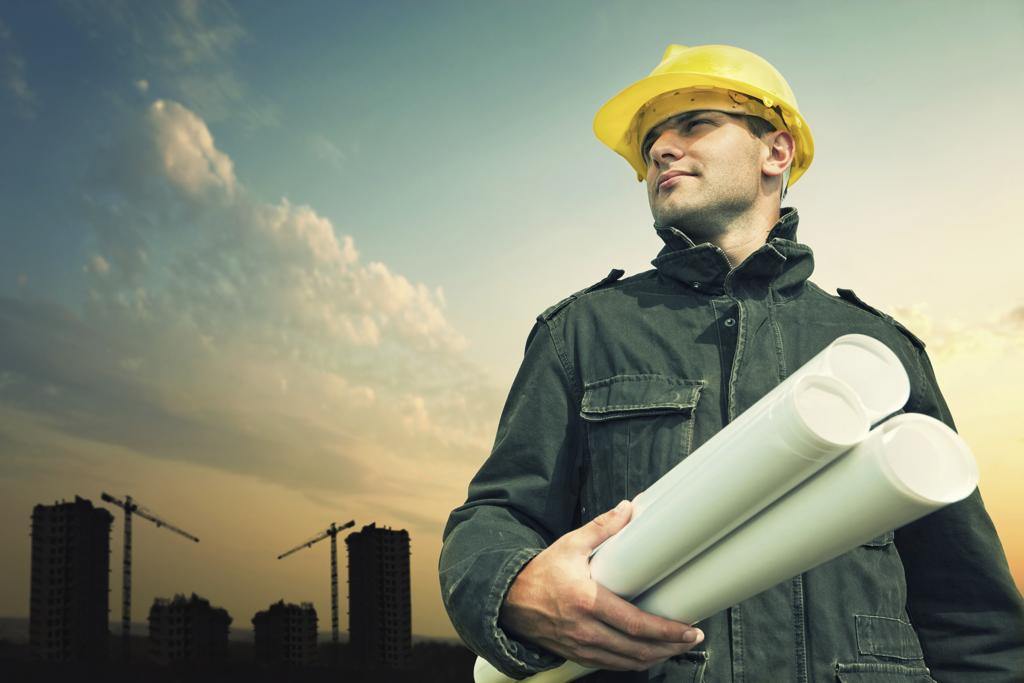face: (642, 64, 756, 208)
